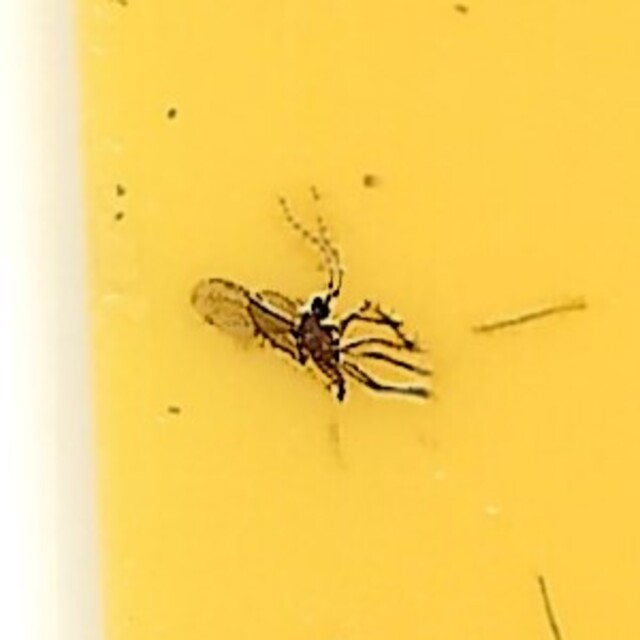Nematocera: (213, 230, 427, 410)
